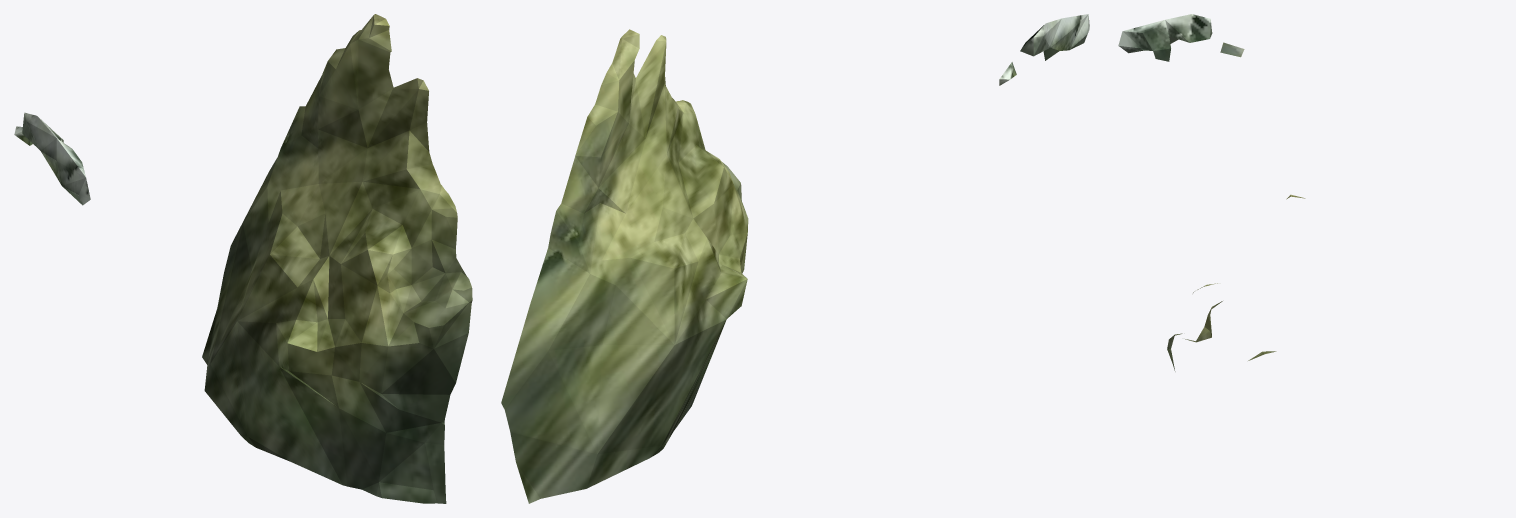
3 views of the same model, side by side, from view 1: azimuth 30°, elevation 25°; view 2: azimuth 150°, elevation 25°; view 3: azimuth 270°, elevation 25° (orthographic). The views are drawn at different scales.
Bounding box in the file's own units: 3.89 × 4.38 × 4.38.
Materials: 1 (1 with a texture image).
